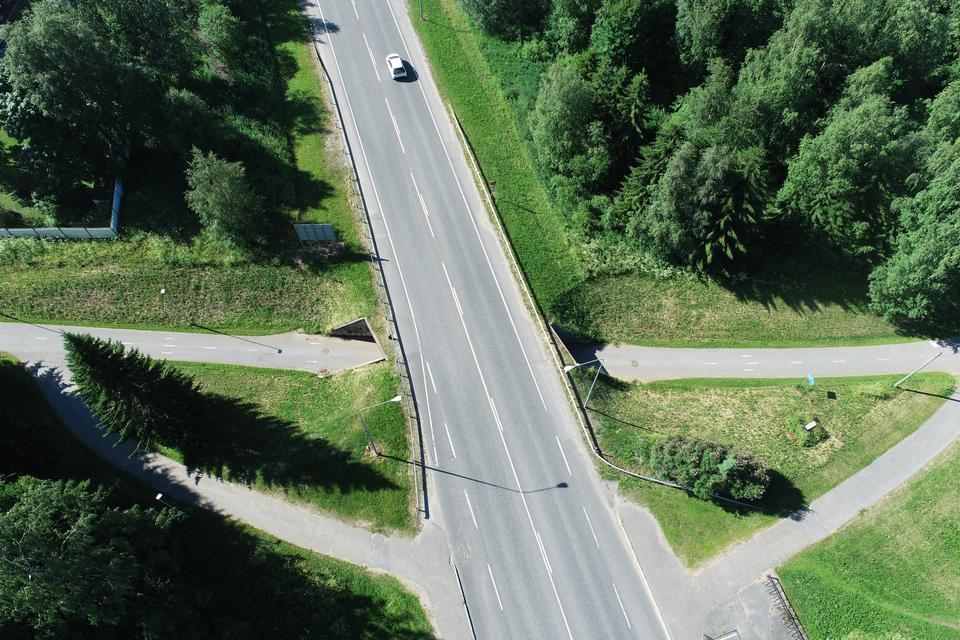intersection: (294, 473, 547, 640), (631, 479, 838, 640)
